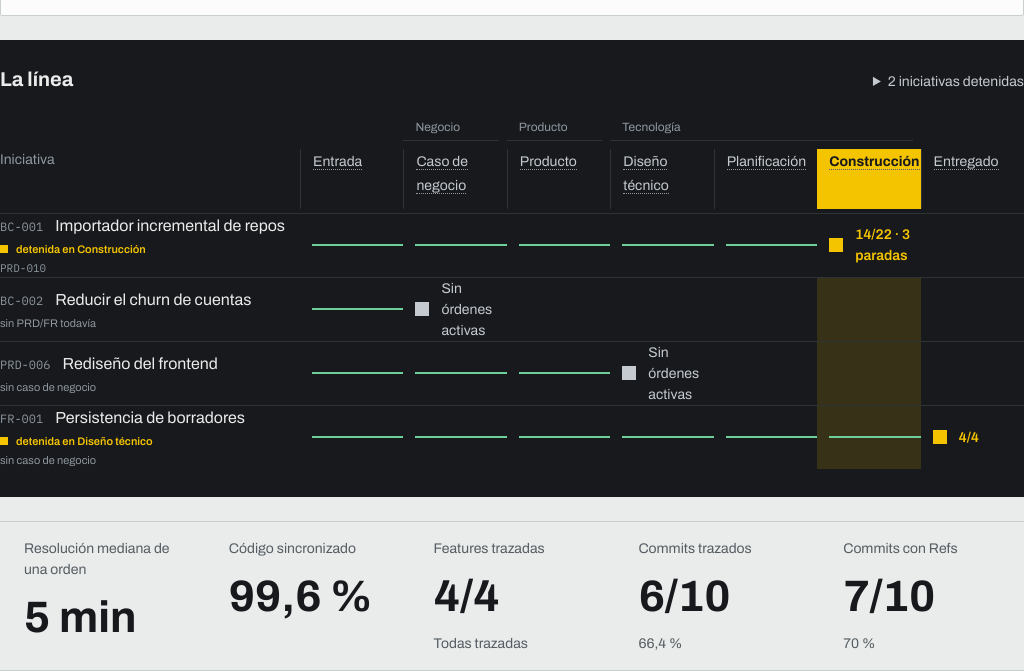
Test: Planta › commit KPIs drill-down (WO-669, SDD-080 D6/D7) › pluralizes the dangling count
(page scrolled)
Click the button named "Commits trazados: 6/10" at (684, 596), box [638, 563, 730, 629]
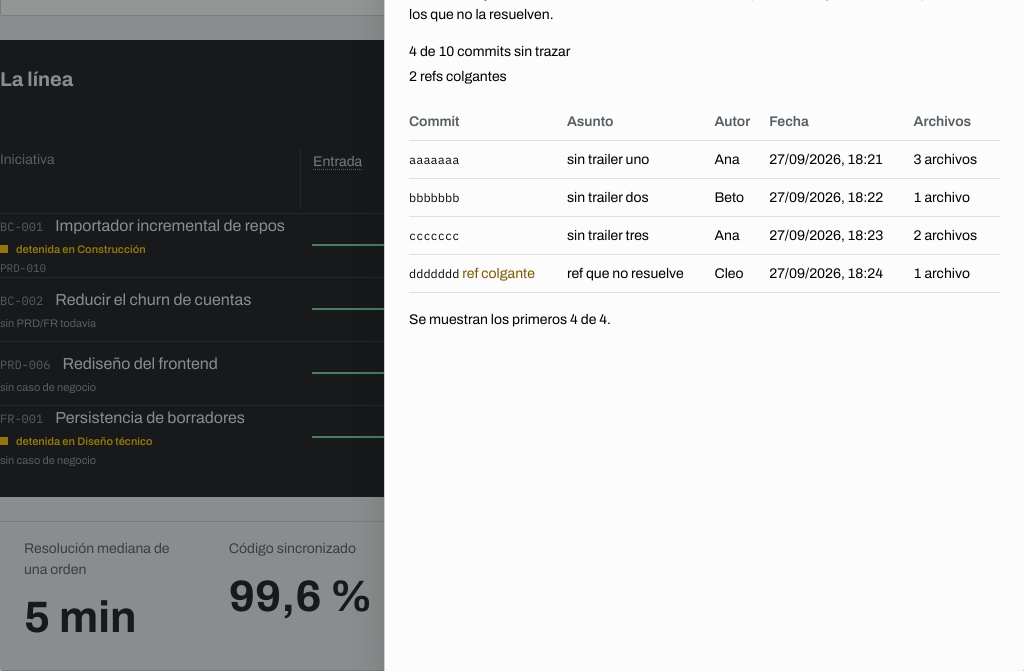
Expected: the text "2 refs colgantes" is shown, [409, 69, 507, 84]
